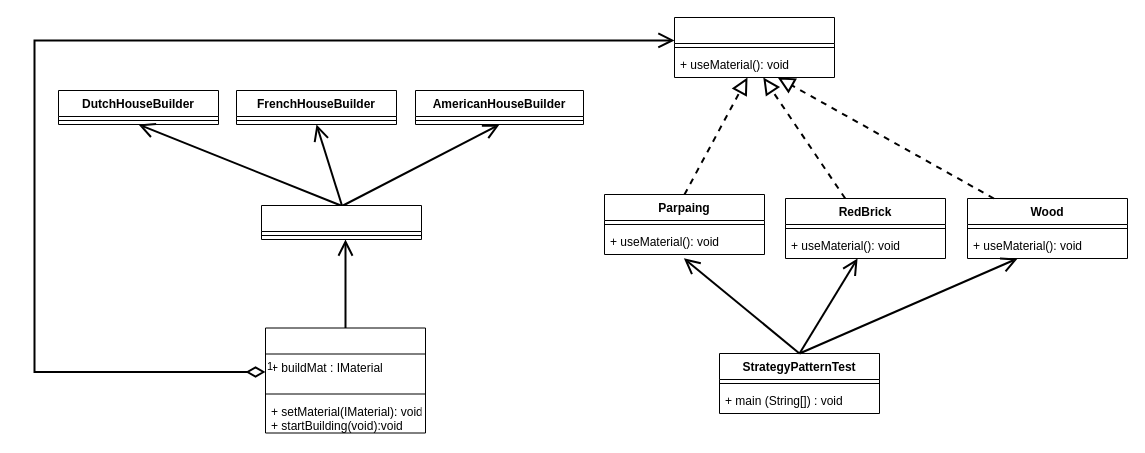
Some shapes in this 1145 by 453 pixel diagram are drawn without their labels. Here are the shapes that lost their labels. From the top down, the box of each, then its label:
(674, 16, 834, 78): IMaterial
(260, 204, 422, 240): Builder
(264, 327, 426, 433): AbstractBuilder
